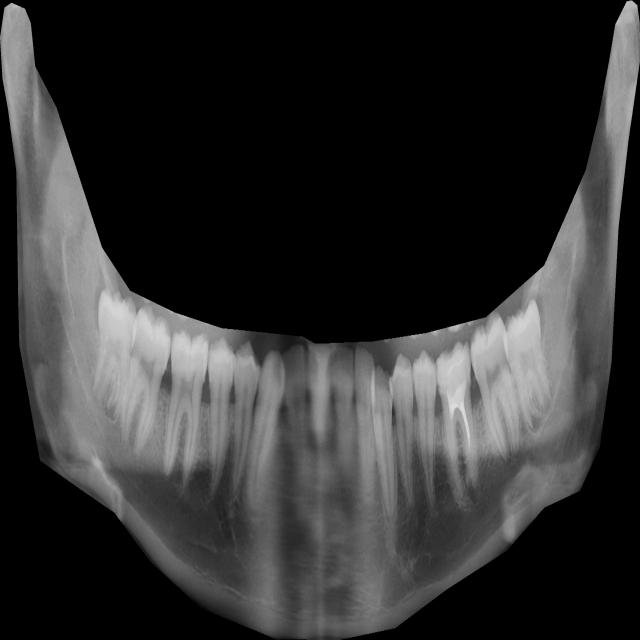mandibula: (0, 0, 640, 640)
